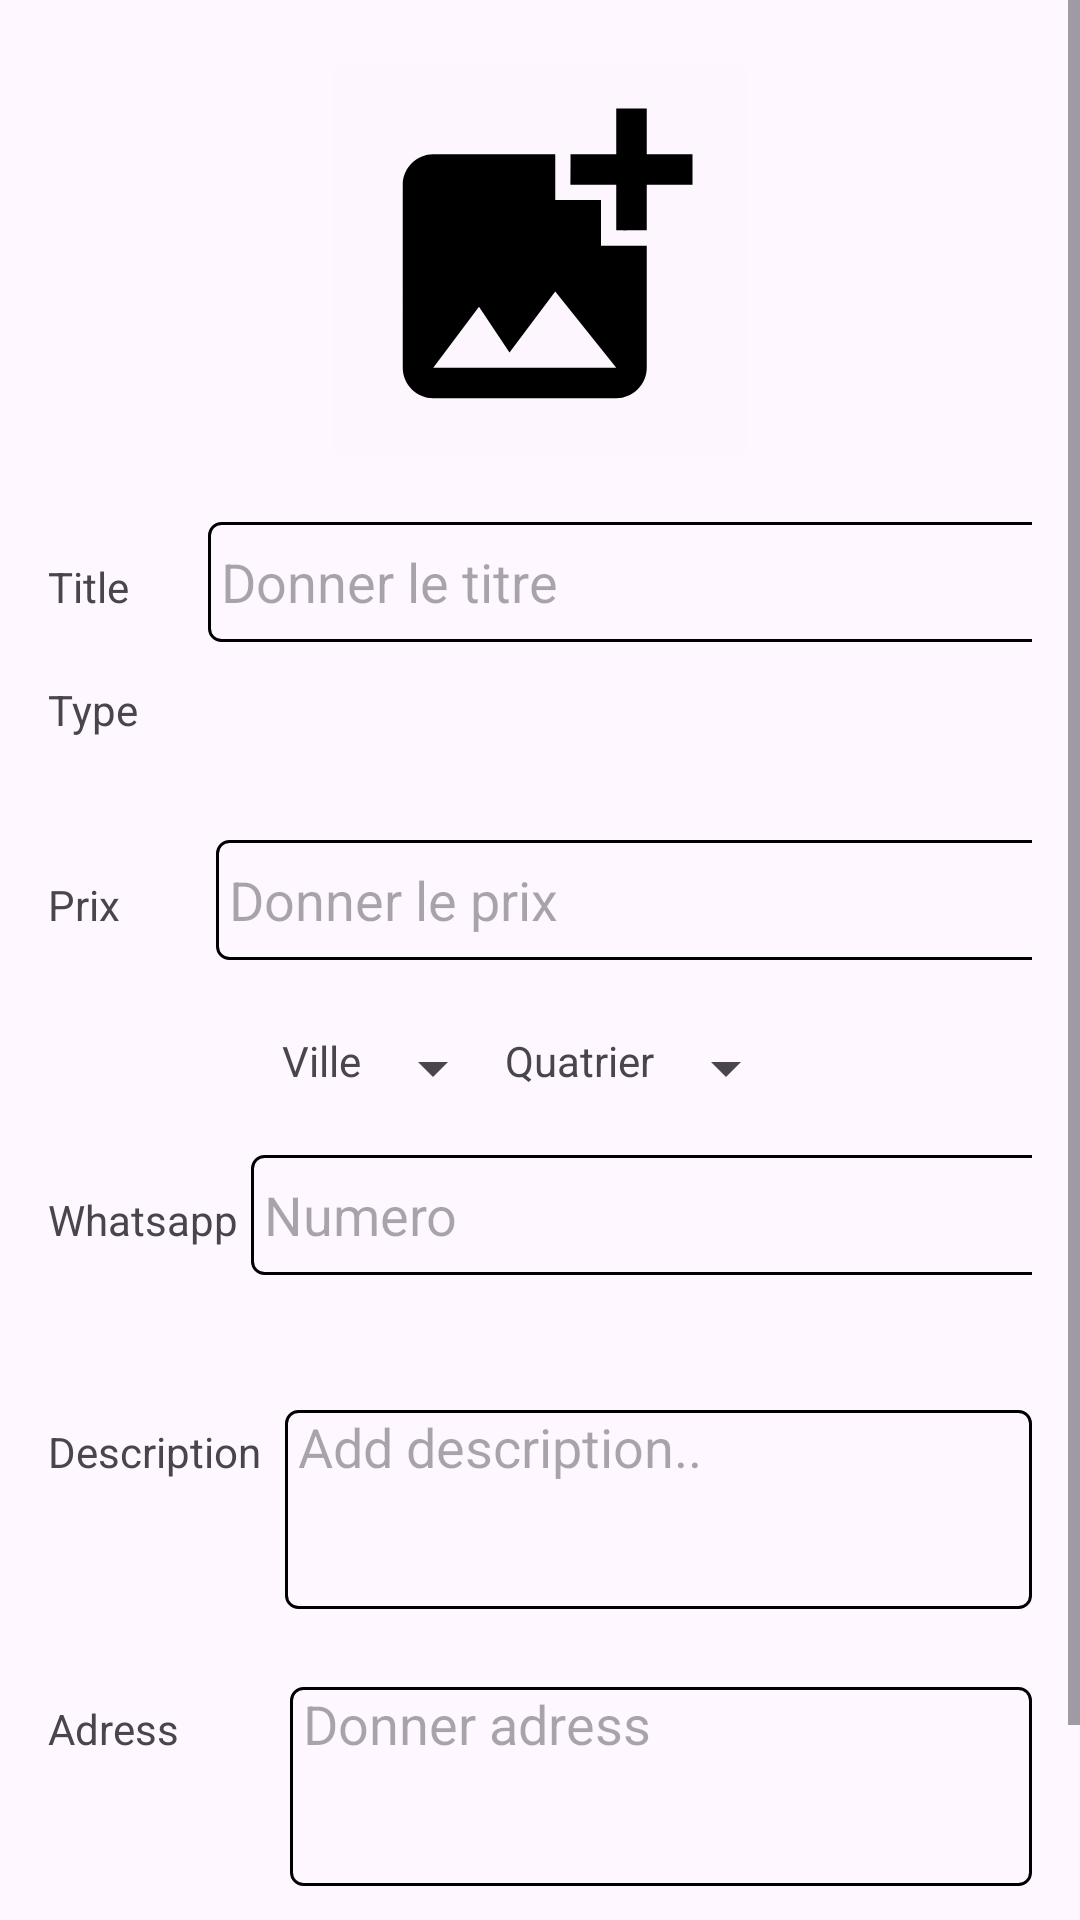

Icon bounding boxes for this 1080×1920 phone screenshot, format (x1, y1, x2, y2):
add photo alternate: (402, 108, 693, 399)
